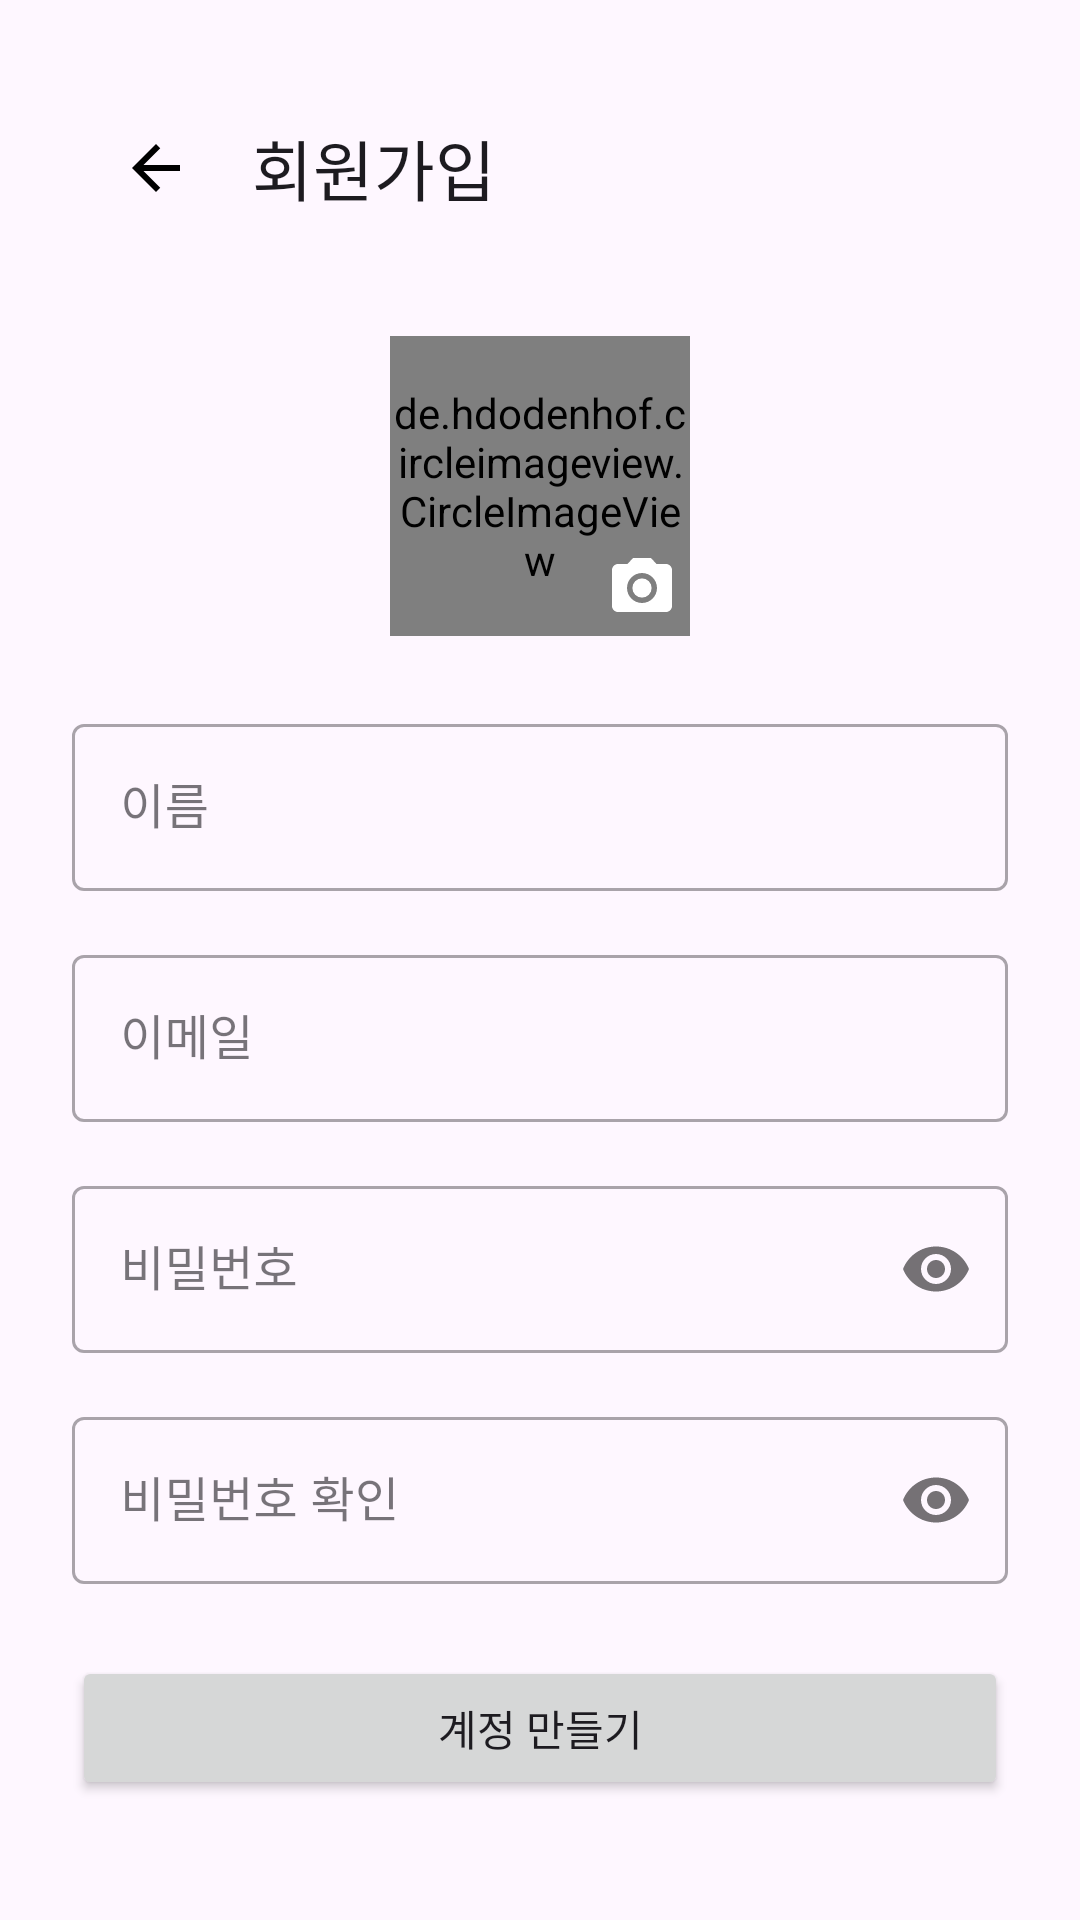

Locate icon controls on the screen. Image size 1080*1920, boxes as region(x1, y1, x2, y2).
camera: region(612, 558, 672, 612)
